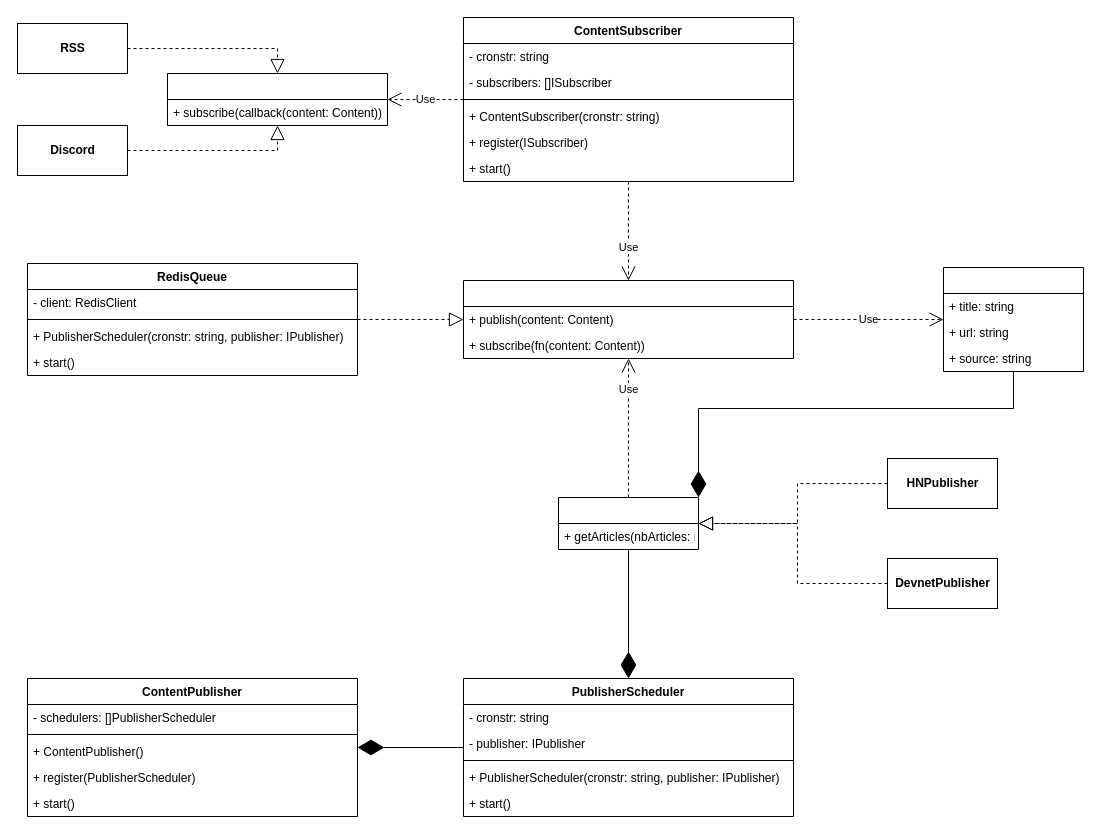
Image size: 1101x837. Some labels were removed from this diagram. The shapes that lost their labels are listed below. From the top down, each one's box as (x1, y1, x2, y2) in pixels, then its label:
(166, 72, 388, 126): ISubscriber
(462, 280, 794, 358): IQueue
(942, 266, 1084, 372): Content
(558, 496, 698, 550): IPublisher
